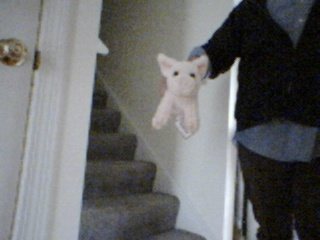piggy: (150, 51, 210, 135)
